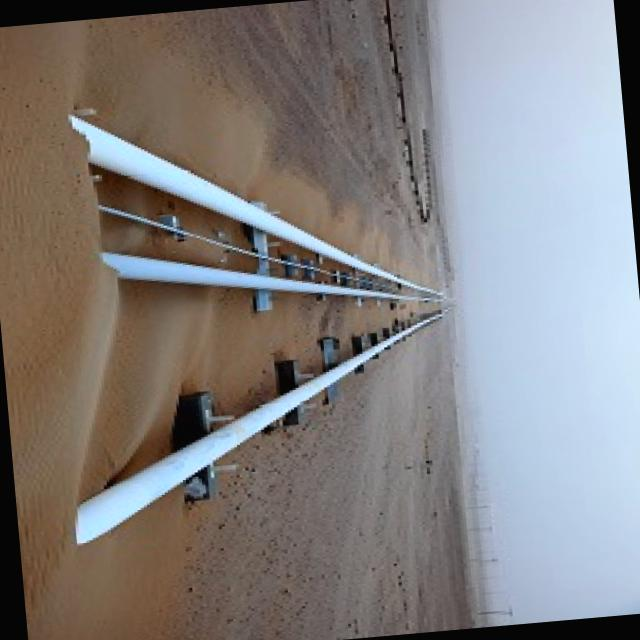gas: (74, 314, 442, 544), (69, 117, 436, 292), (100, 254, 429, 298)
